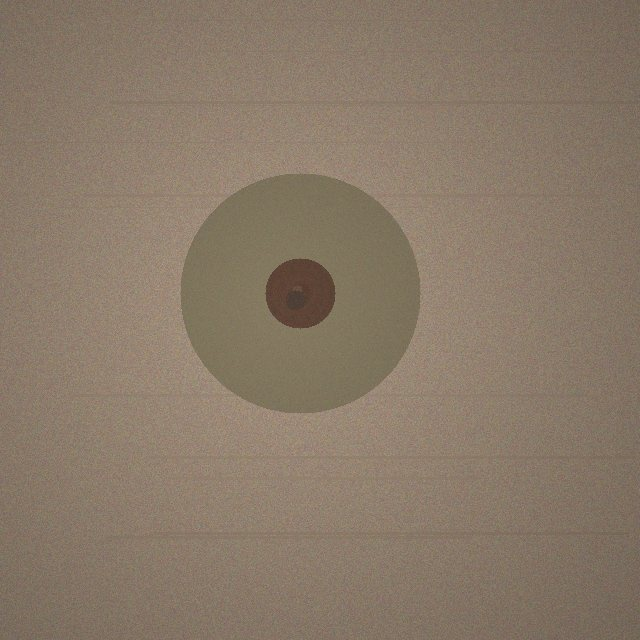cold_weld: (180, 173, 420, 413)
